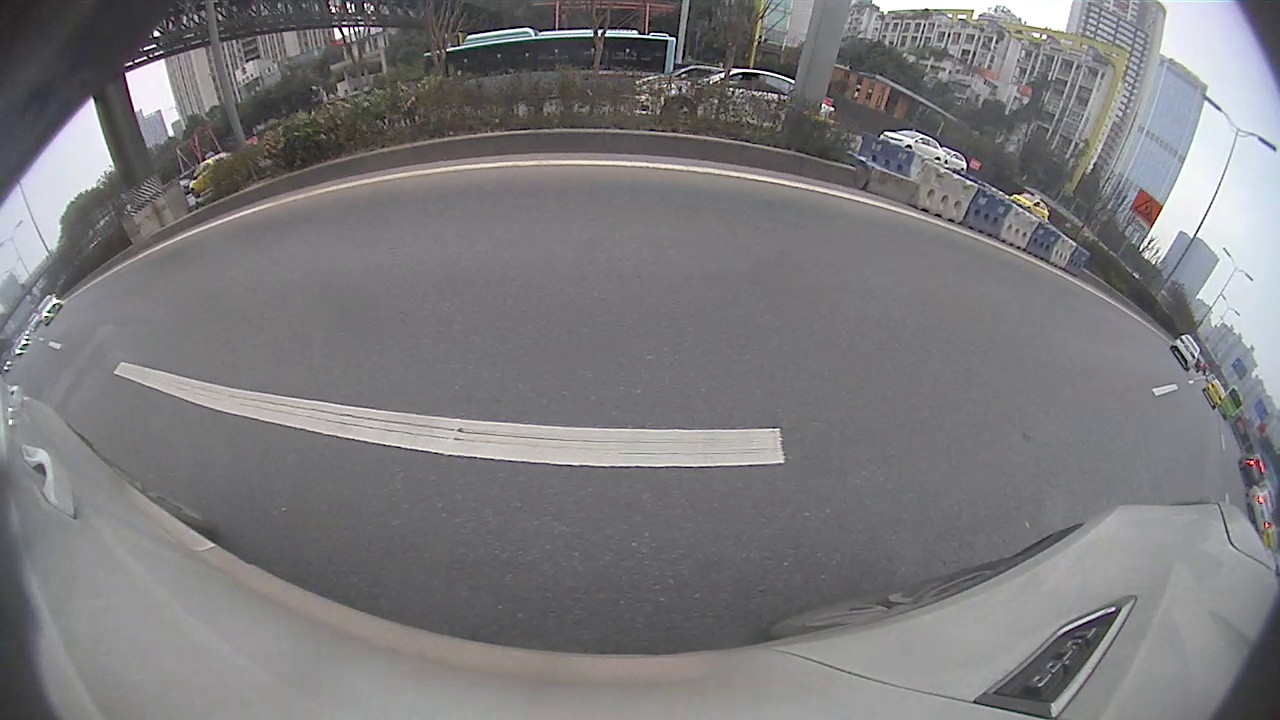car: (1168, 331, 1204, 374), (35, 291, 65, 328), (1202, 376, 1228, 413)
